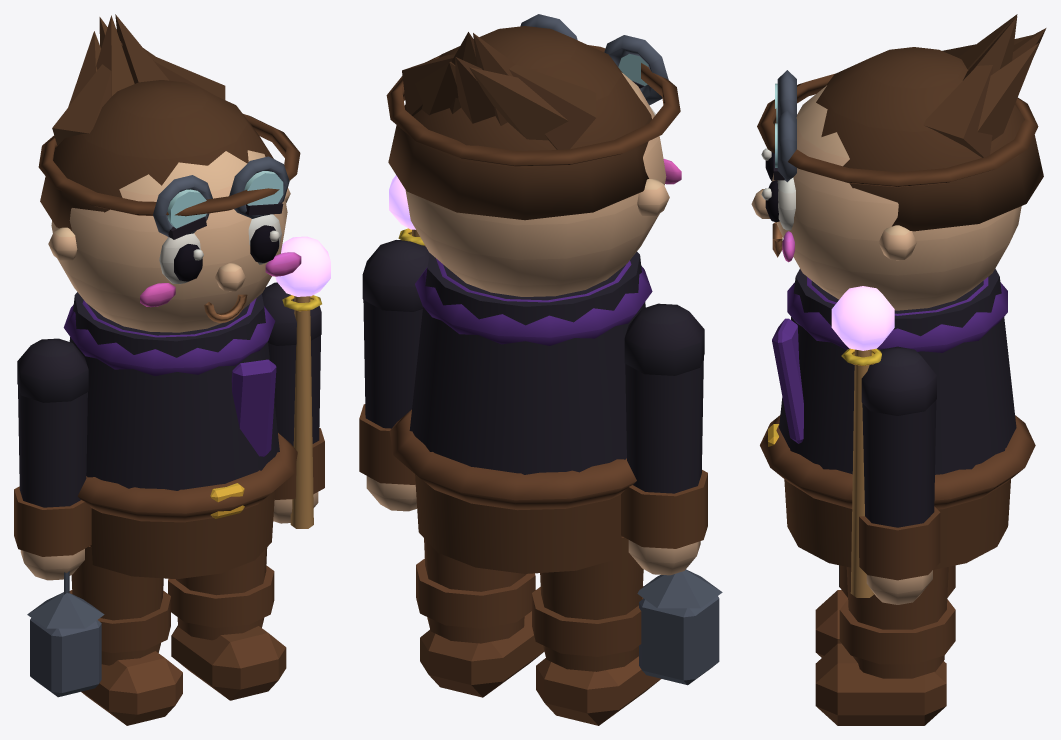
File: hero_talon.glb
3 renders of one model, left to right at view 1: azimuth 30°, elevation 25°; view 2: azimuth 150°, elevation 25°; view 3: azimuth 270°, elevation 25°, orthographic. The views are drawn at different scales.
Visible parts, largest first — view 1: body_t0_palette, arml_t0_palette, legr_t0_palette, legl_t0_palette, armr_t0_palette, armr_t0_crystal_violet; view 2: body_t0_palette, arml_t0_palette, legl_t0_palette, legr_t0_palette, armr_t0_palette, armr_t0_crystal_violet; view 3: body_t0_palette, armr_t0_palette, legr_t0_palette, armr_t0_crystal_violet, legl_t0_palette.
Boxes of the visible parts, left/top/right/bottom form: body_t0_palette: left=38, top=14, right=301, bottom=579; arml_t0_palette: left=14, top=338, right=104, bottom=697; legr_t0_palette: left=168, top=547, right=286, bottom=700; legl_t0_palette: left=69, top=546, right=182, bottom=725; armr_t0_palette: left=262, top=282, right=324, bottom=528; armr_t0_crystal_violet: left=275, top=236, right=330, bottom=296; body_t0_palette: left=386, top=14, right=681, bottom=573; arml_t0_palette: left=621, top=303, right=722, bottom=685; legl_t0_palette: left=532, top=537, right=660, bottom=725; legr_t0_palette: left=416, top=538, right=544, bottom=697; armr_t0_palette: left=359, top=228, right=429, bottom=511; armr_t0_crystal_violet: left=389, top=175, right=415, bottom=229; body_t0_palette: left=751, top=14, right=1046, bottom=569; armr_t0_palette: left=841, top=346, right=940, bottom=604; legr_t0_palette: left=815, top=567, right=955, bottom=725; armr_t0_crystal_violet: left=831, top=286, right=894, bottom=350; legl_t0_palette: left=815, top=565, right=955, bottom=657.
Bounding box in the file's own units: 0.27 × 0.5391 × 0.2139.
